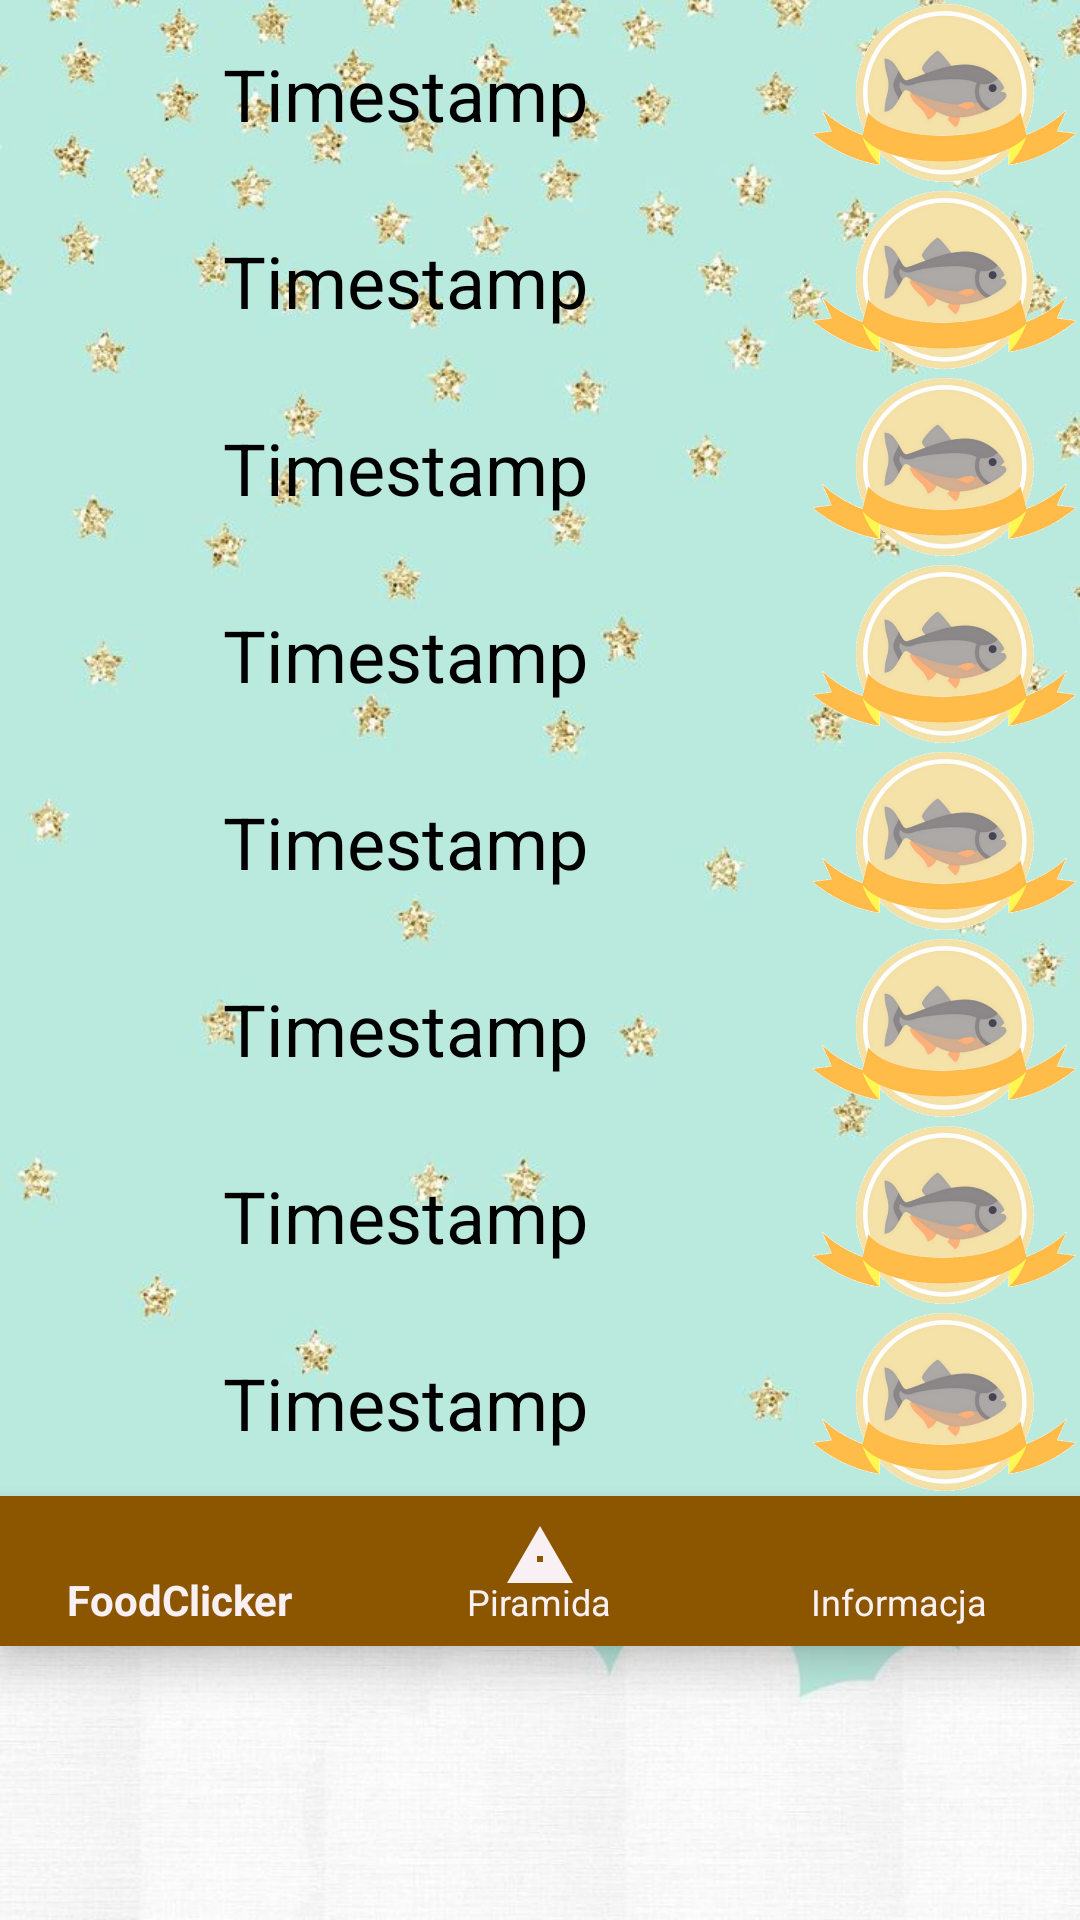

Screen size 1080×1920. Icon name, then its center in pixels as [x,y]:
ryba wst: [946,93], [943,280], [946,467], [945,654], [944,843], [944,1030], [944,1215], [944,1402]
